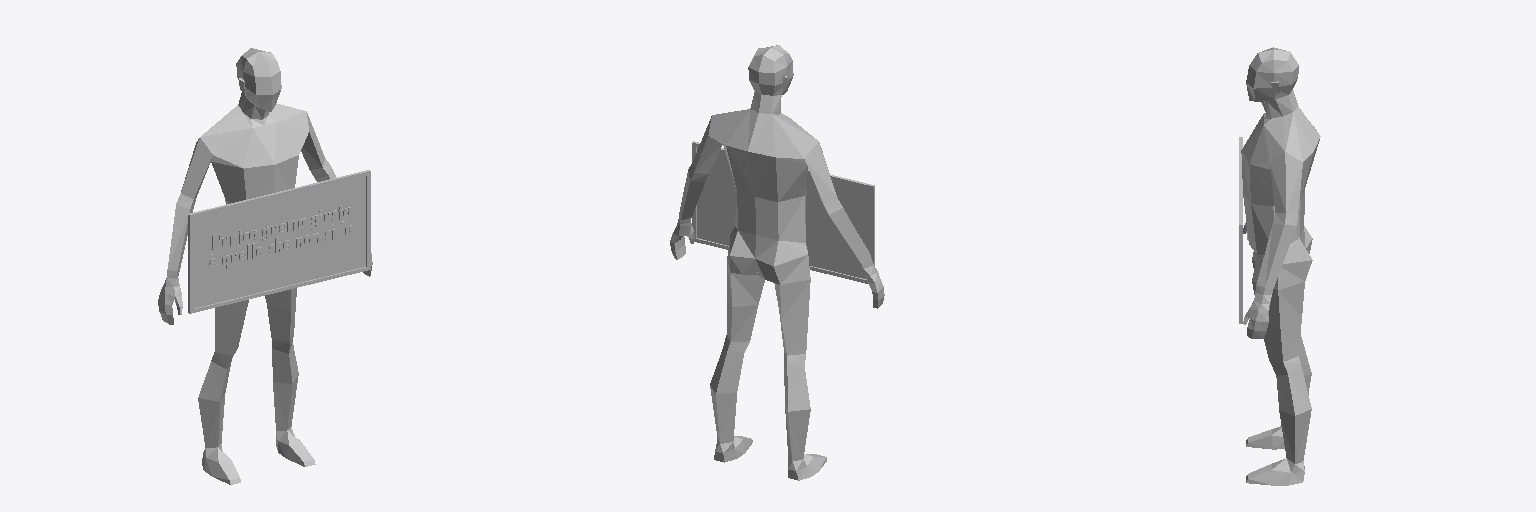
The model's file is Guerra7.obj.
3 views of the same model, side by side, from view 1: azimuth 30°, elevation 25°; view 2: azimuth 150°, elevation 25°; view 3: azimuth 270°, elevation 25° (orthographic).
Visible parts, largest first — view 1: Mesh42 skp688D1 Model, Mesh1 Group2 Group1 Model; view 2: Mesh42 skp688D1 Model, Mesh1 Group2 Group1 Model; view 3: Mesh42 skp688D1 Model, Mesh1 Group2 Group1 Model.
Boxes of the visible parts, <box> form: Mesh42 skp688D1 Model: <box>158,48,372,484</box>; Mesh1 Group2 Group1 Model: <box>188,170,370,313</box>; Mesh42 skp688D1 Model: <box>670,45,884,480</box>; Mesh1 Group2 Group1 Model: <box>692,141,874,283</box>; Mesh42 skp688D1 Model: <box>1241,47,1320,485</box>; Mesh1 Group2 Group1 Model: <box>1239,137,1242,323</box>.
Size of the model in its own units: 0.7211 by 1.37 by 0.2446.